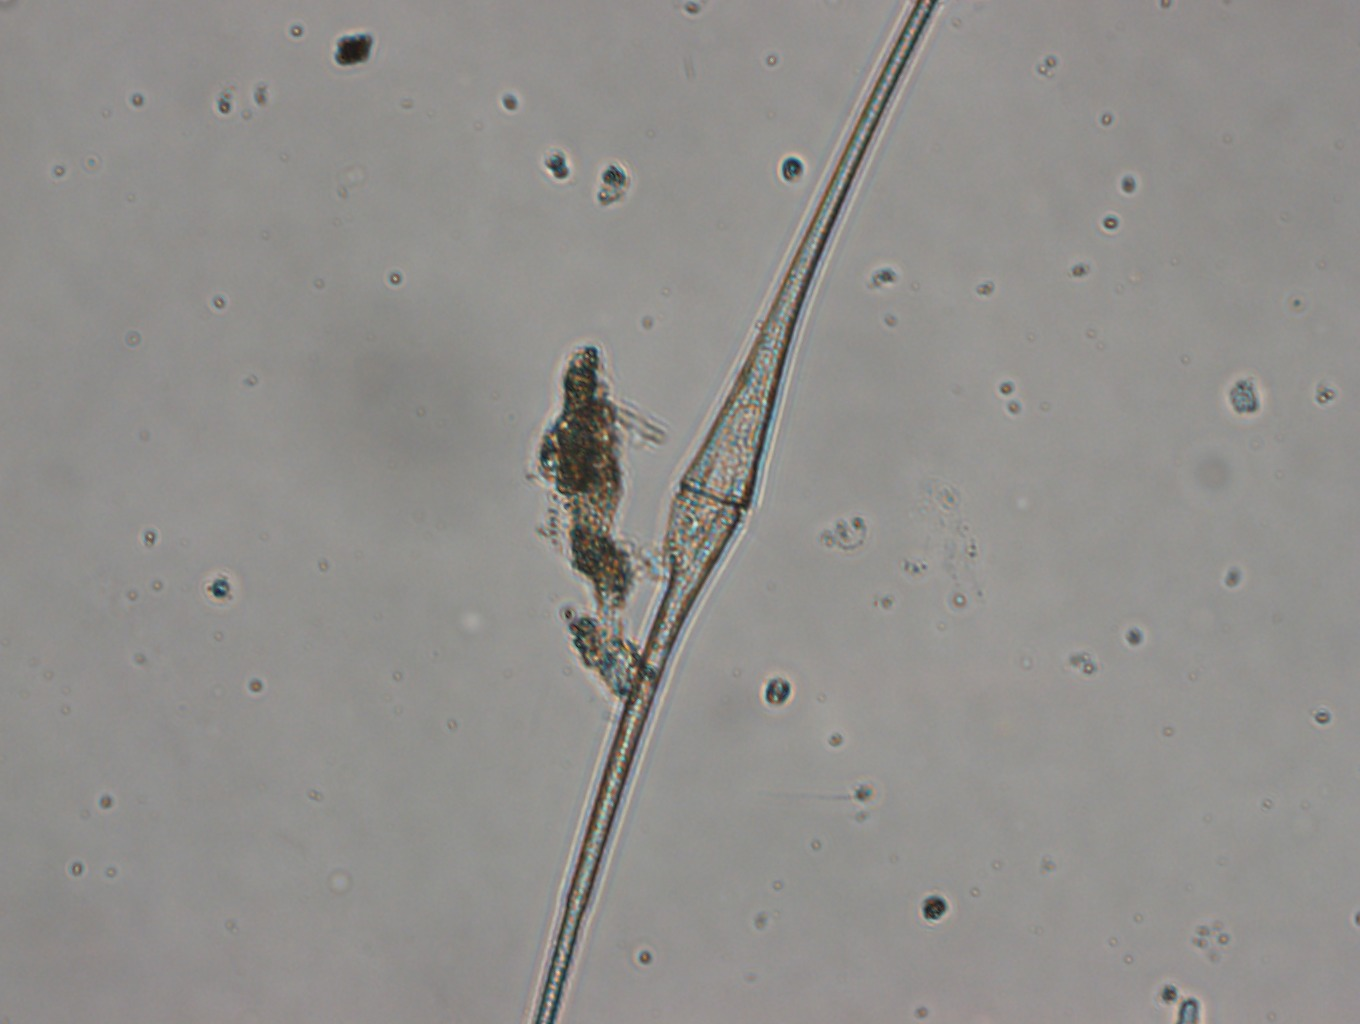ceratium fusus: (533, 1, 937, 1024)
